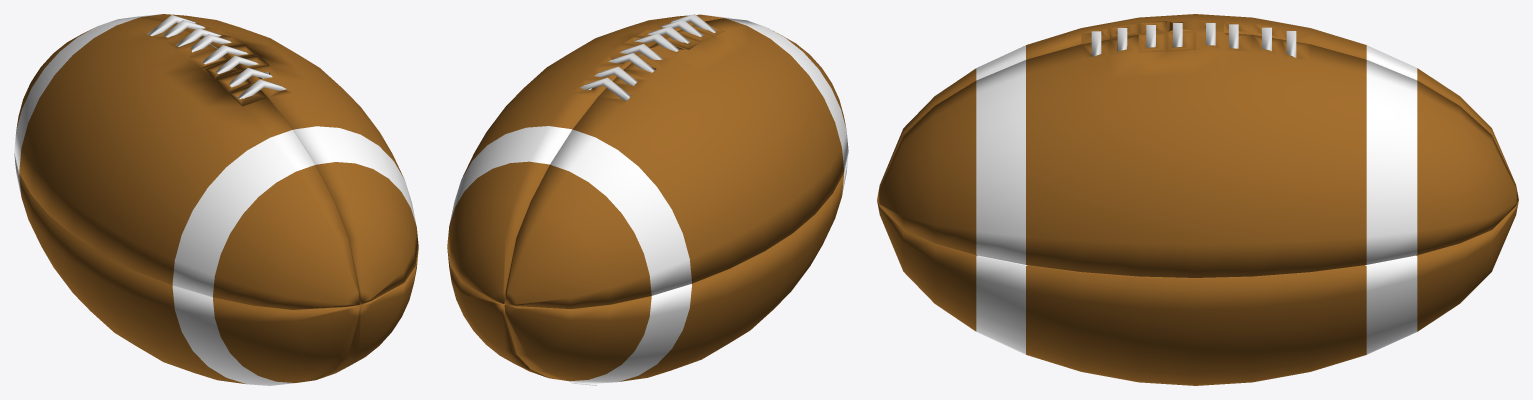
Rendered from rugby.glb.
The picture shows the model from 3 angles, left to right: view 1: azimuth 30°, elevation 25°; view 2: azimuth 150°, elevation 25°; view 3: azimuth 270°, elevation 25°; orthographic projection. The views are drawn at different scales.
Parts seen in each view (by area): view 1: Sphere, Cube, Cube.007; view 2: Sphere, Cube.006, Cube.004, Cube.005; view 3: Sphere.
Boxes of the visible parts, box(x1,y1,x2,y2) form: Sphere: box(14, 14, 418, 385); Cube: box(238, 79, 286, 99); Cube.007: box(229, 67, 272, 87); Sphere: box(447, 14, 848, 385); Cube.006: box(580, 77, 630, 100); Cube.004: box(608, 53, 654, 72); Cube.005: box(588, 66, 637, 89); Sphere: box(877, 14, 1518, 385).
Size of the model in its own units: 2.08 by 2.13 by 3.59.
